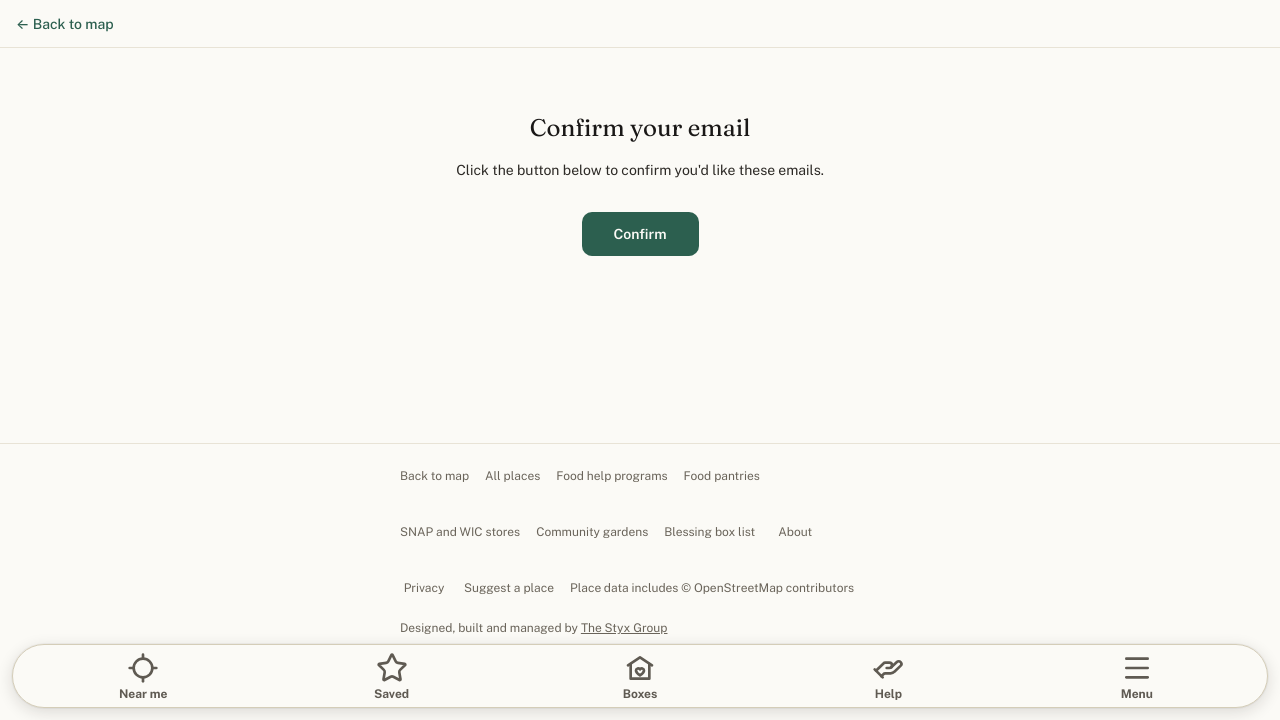
Scenario: AlertsConfirmContent › a false/invalid API response shows the invalid message
Click the button "Confirm" at (640, 234), box [582, 212, 698, 256]
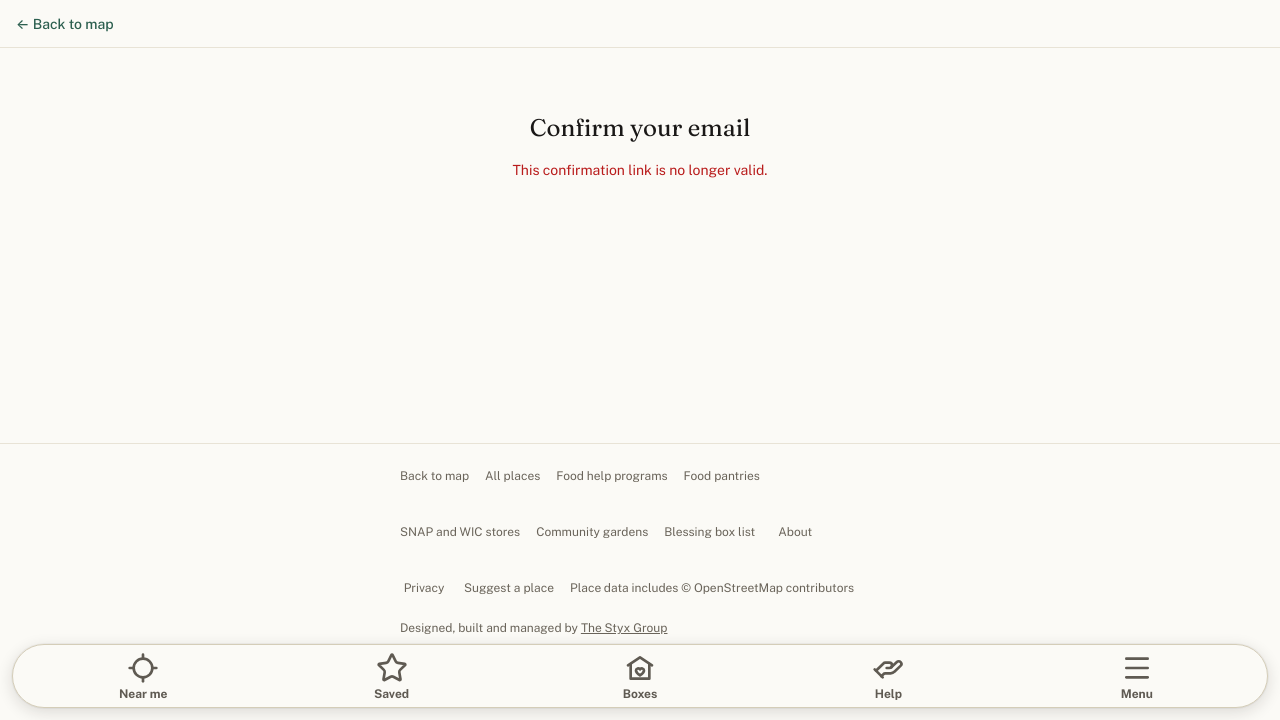
Expected: the text "This confirmation link is no longer valid." is shown, [512, 162, 767, 178]
